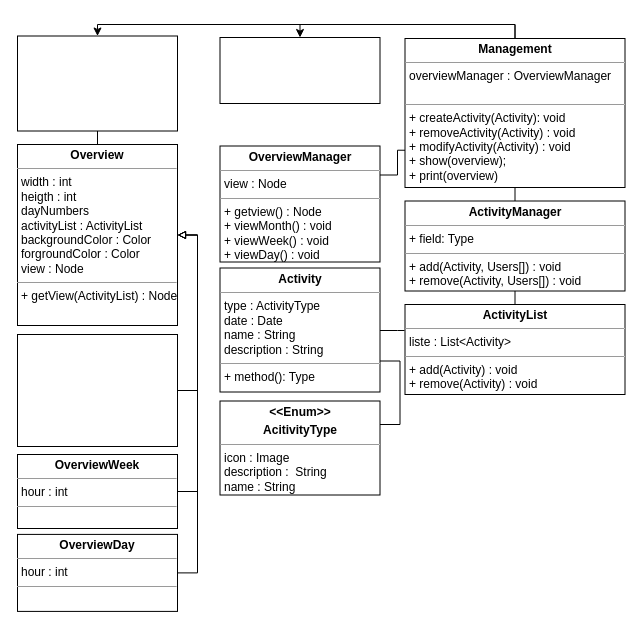
Image size: 643x629. Some labels were removed from this diagram. Each missing label, with the box of its shape:
<<Interface>> Printable + print() : PDF: (16, 35, 178, 131)
OverviewMonth days : int weekNumbers : int cellHeight : int cellWidth : int: (16, 334, 178, 446)
Syncronization: (219, 36, 380, 104)
